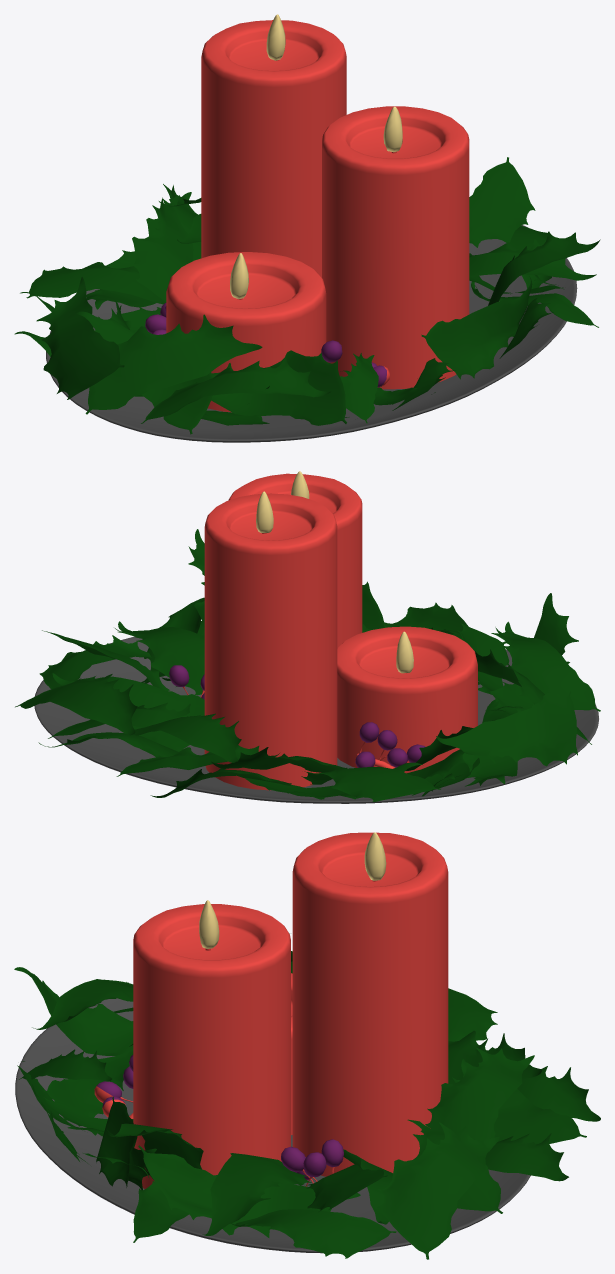
The model's file is candles.glb.
3 views of the same model, one above another, from view 1: azimuth 30°, elevation 25°; view 2: azimuth 150°, elevation 25°; view 3: azimuth 270°, elevation 25° (orthographic). The views are drawn at different scales.
Parts seen in each view (by area): view 1: node_id45; view 2: node_id45; view 3: node_id45.
Part boxes in pixels (x1,y1,x2,y2): node_id45: (14,14,600,442); node_id45: (15,471,600,803); node_id45: (14,832,600,1259).
Size of the model in its own units: 0.512 by 0.2799 by 0.4534.
